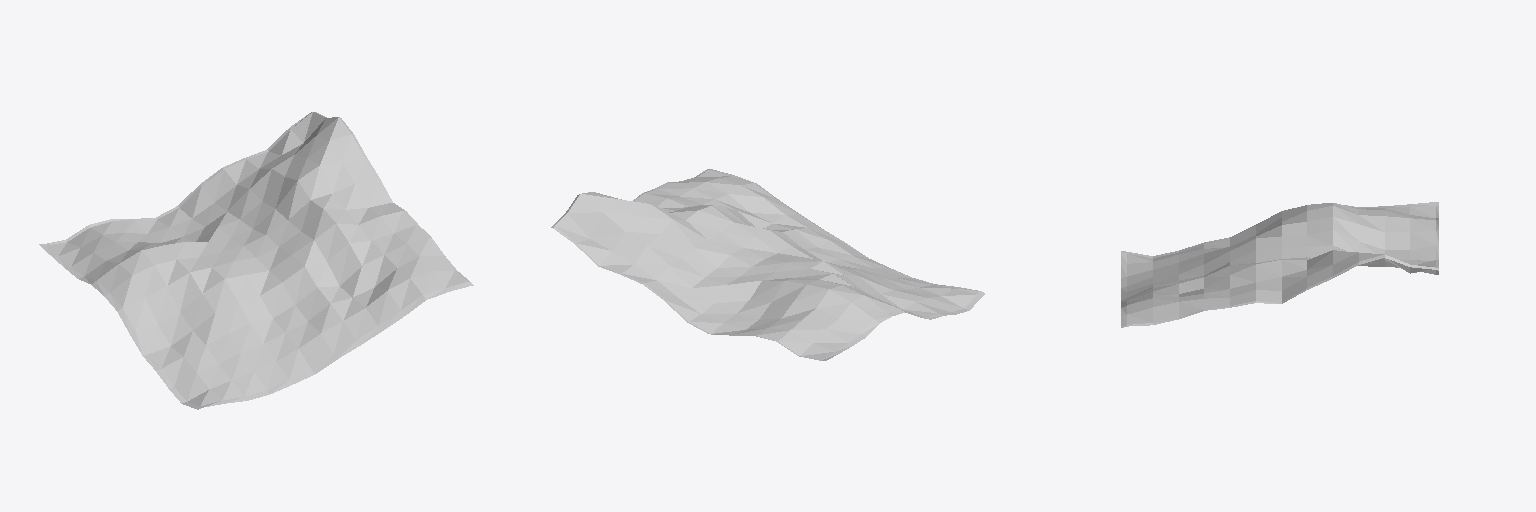
The model's file is Landscape.022.obj.
The picture shows the model from 3 angles: view 1: azimuth 30°, elevation 25°; view 2: azimuth 150°, elevation 25°; view 3: azimuth 270°, elevation 25°; orthographic projection.
Parts seen in each view (by area): view 1: Landscape.022; view 2: Landscape.022; view 3: Landscape.022.
Part boxes in pixels (left/top/right/bottom): Landscape.022: left=39, top=112, right=473, bottom=409; Landscape.022: left=551, top=169, right=984, bottom=360; Landscape.022: left=1121, top=202, right=1438, bottom=327.
Bounding box in the file's own units: 32 × 14.97 × 32.